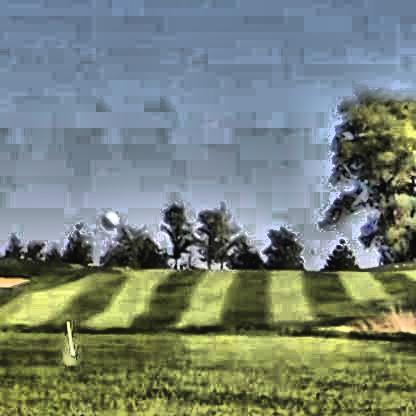golfball: (99, 207, 116, 227)
